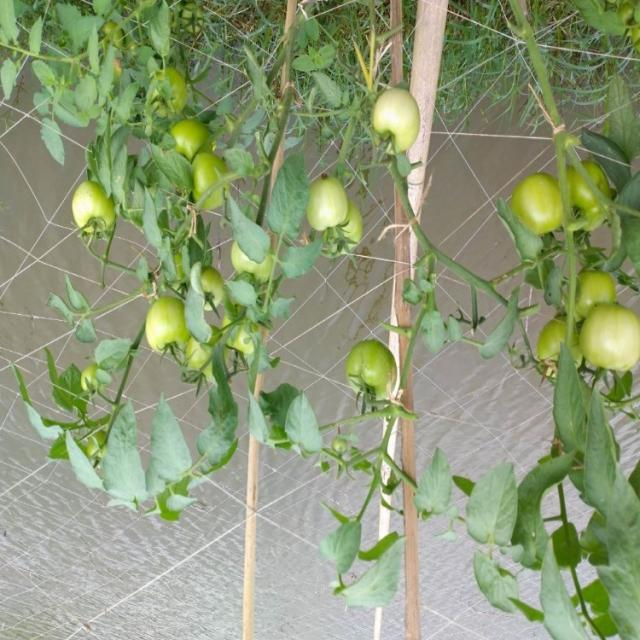tomato: (365, 89, 451, 170), (337, 331, 411, 419), (214, 223, 293, 290), (576, 310, 640, 385), (508, 165, 566, 243), (569, 164, 623, 246), (68, 172, 129, 243), (186, 147, 239, 228), (132, 285, 182, 366), (298, 164, 350, 240), (228, 317, 276, 384), (162, 104, 215, 164), (187, 258, 230, 329), (177, 326, 219, 396), (571, 273, 630, 314), (145, 69, 190, 122), (337, 201, 372, 256), (539, 323, 583, 365)
